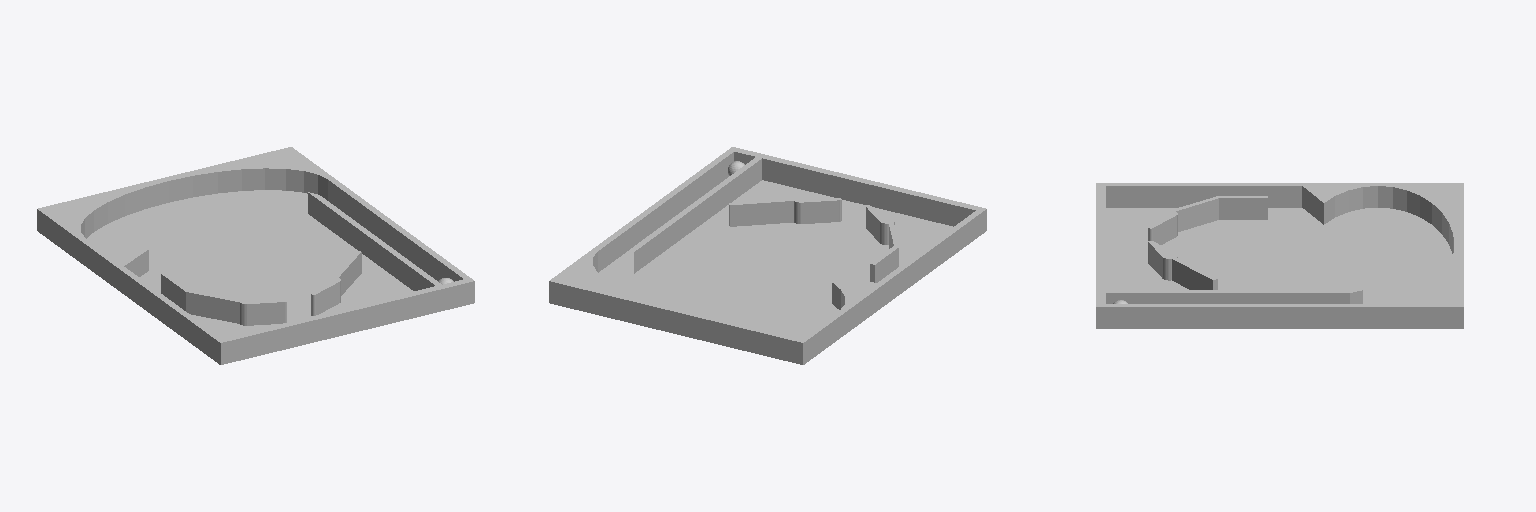
File: level.obj
3 views of the same model, side by side, from view 1: azimuth 30°, elevation 25°; view 2: azimuth 150°, elevation 25°; view 3: azimuth 270°, elevation 25° (orthographic).
Parts seen in each view (by area): view 1: Table_Cube, Ramp_Cylinder.002, HingeL_Cube.001, FlipperL_Cylinder, FlipperR_Cylinder.001, HingeR_Cube.002; view 2: Table_Cube, Ramp_Cylinder.002, HingeR_Cube.002, FlipperR_Cylinder.001, HingeL_Cube.001, FlipperL_Cylinder; view 3: Table_Cube, Ramp_Cylinder.002, HingeL_Cube.001, HingeR_Cube.002, FlipperL_Cylinder, FlipperR_Cylinder.001.
Boxes of the visible parts, x1,y1,x2,y2 form: Table_Cube: [37, 147, 474, 364]; Ramp_Cylinder.002: [48, 152, 327, 276]; HingeL_Cube.001: [161, 273, 240, 323]; FlipperL_Cylinder: [240, 297, 286, 325]; FlipperR_Cylinder.001: [311, 277, 340, 315]; HingeR_Cube.002: [333, 251, 361, 295]; Table_Cube: [549, 147, 986, 364]; Ramp_Cylinder.002: [561, 252, 875, 337]; HingeR_Cube.002: [729, 198, 793, 226]; FlipperR_Cylinder.001: [793, 196, 841, 223]; HingeL_Cube.001: [870, 222, 898, 282]; FlipperL_Cylinder: [866, 205, 894, 244]; Table_Cube: [1096, 183, 1463, 328]; Ramp_Cylinder.002: [1302, 186, 1453, 303]; HingeL_Cube.001: [1173, 196, 1267, 231]; HingeR_Cube.002: [1172, 257, 1217, 289]; FlipperL_Cylinder: [1148, 210, 1177, 244]; FlipperR_Cylinder.001: [1148, 241, 1177, 280].
Bounding box in the file's own units: 24 × 2 × 30.